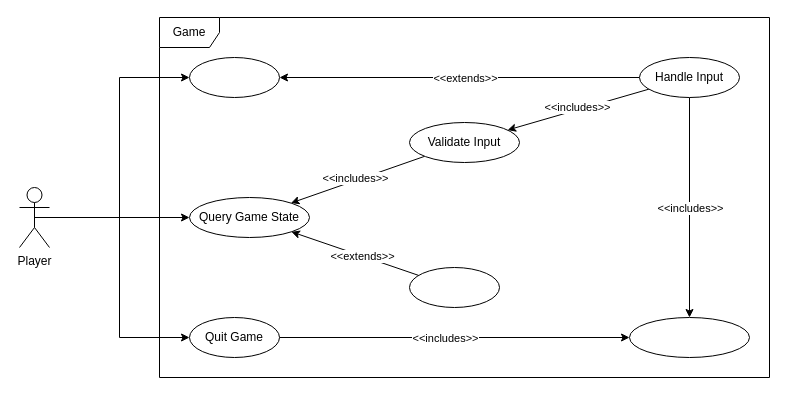
This 787x395 diagram has some shape labels left out. The centre of each missing label's shape, as x and y in pixels:
Make Input: (x=234, y=77)
Query Hints: (x=454, y=287)
Update Game State: (x=689, y=337)
